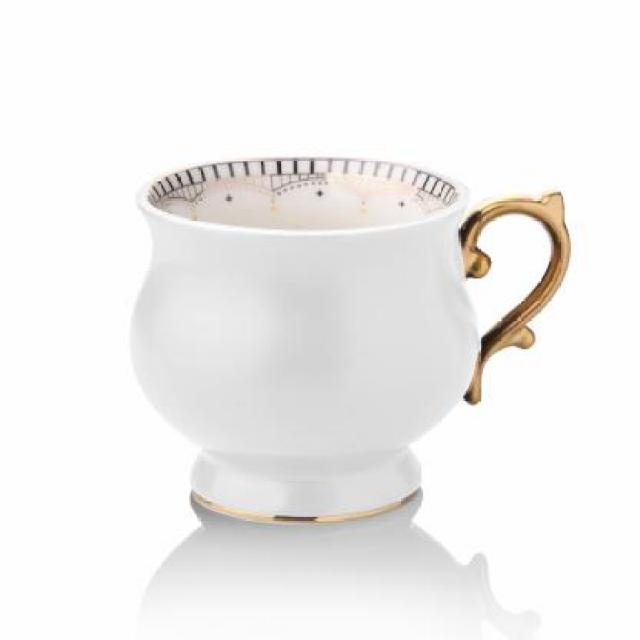taza: (126, 154, 574, 526)
